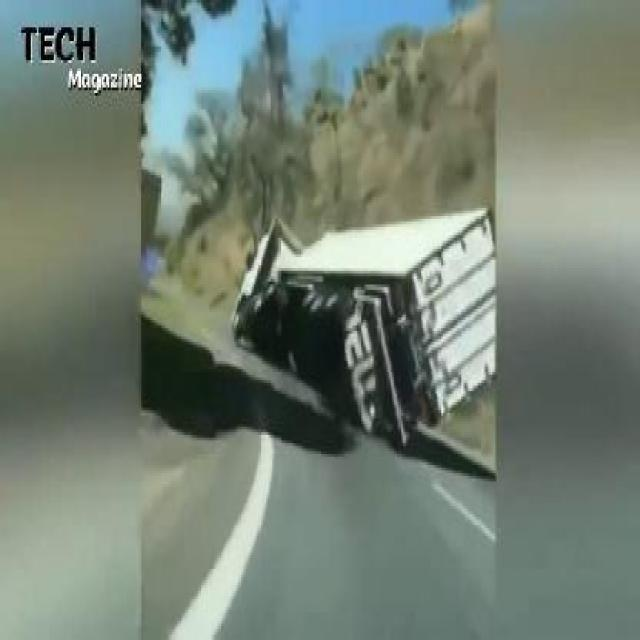accident: (232, 205, 497, 440)
